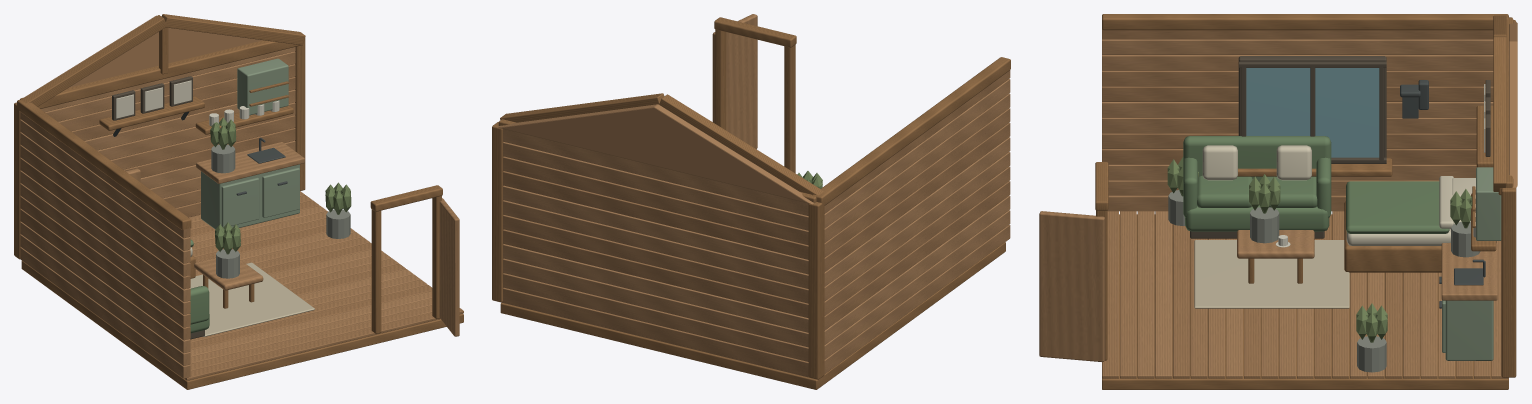
Rendered from Lake_Interior_Timber.glb.
The picture shows the model from 3 angles, left to right: view 1: azimuth 30°, elevation 25°; view 2: azimuth 150°, elevation 25°; view 3: azimuth 270°, elevation 25°; orthographic projection. The views are drawn at different scales.
Parts seen in each view (by area): view 1: Interior_Timber; view 2: Interior_Timber; view 3: Interior_Timber.
Part boxes in pixels (box(x1,y1,x2,y2)): Interior_Timber: box(14, 14, 463, 389); Interior_Timber: box(492, 14, 1010, 389); Interior_Timber: box(1039, 14, 1517, 389).
Size of the model in its own units: 5.48 by 4.05 by 6.47.
17 materials, 5 textured.
